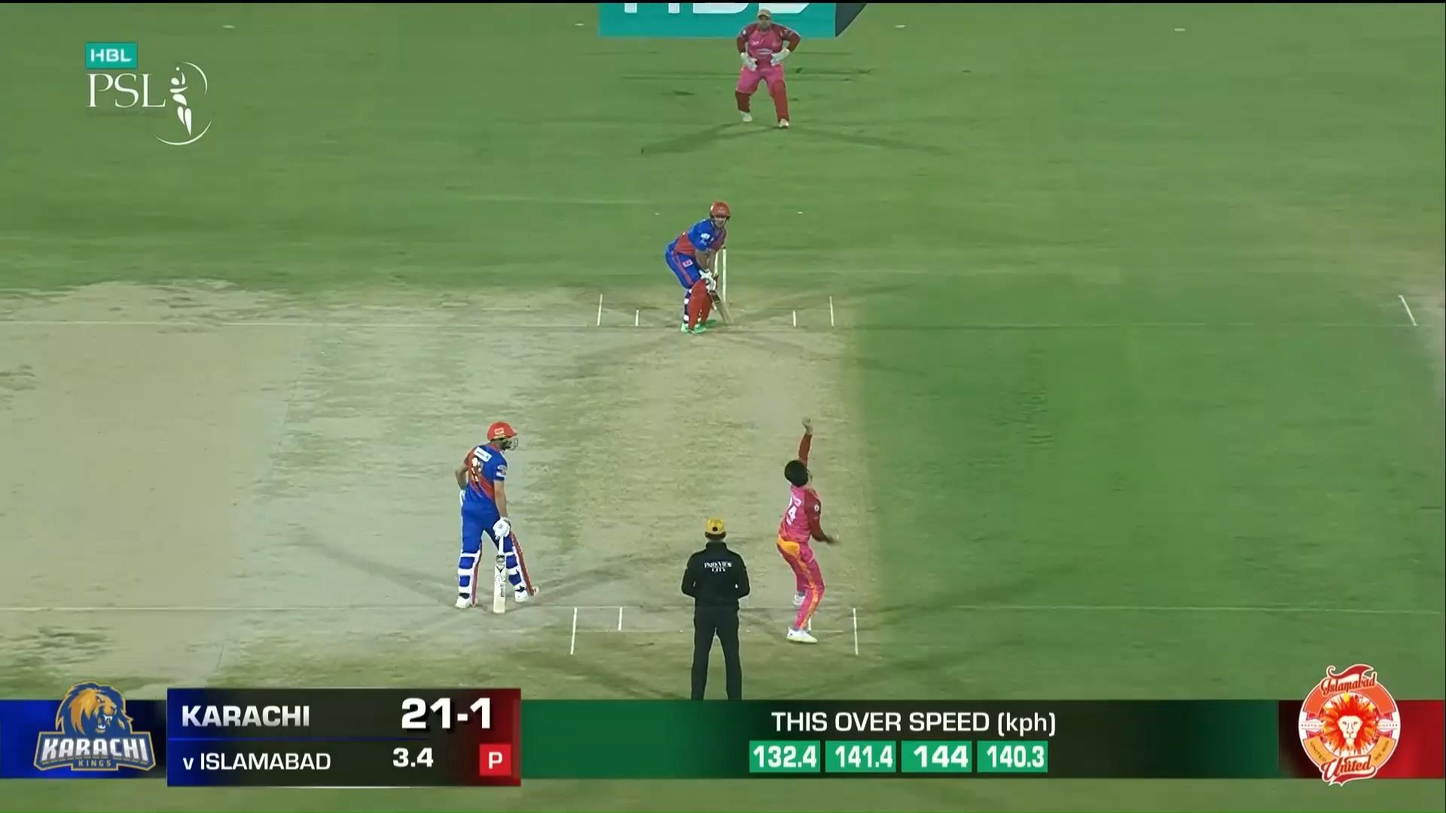batsman: (665, 200, 735, 335)
